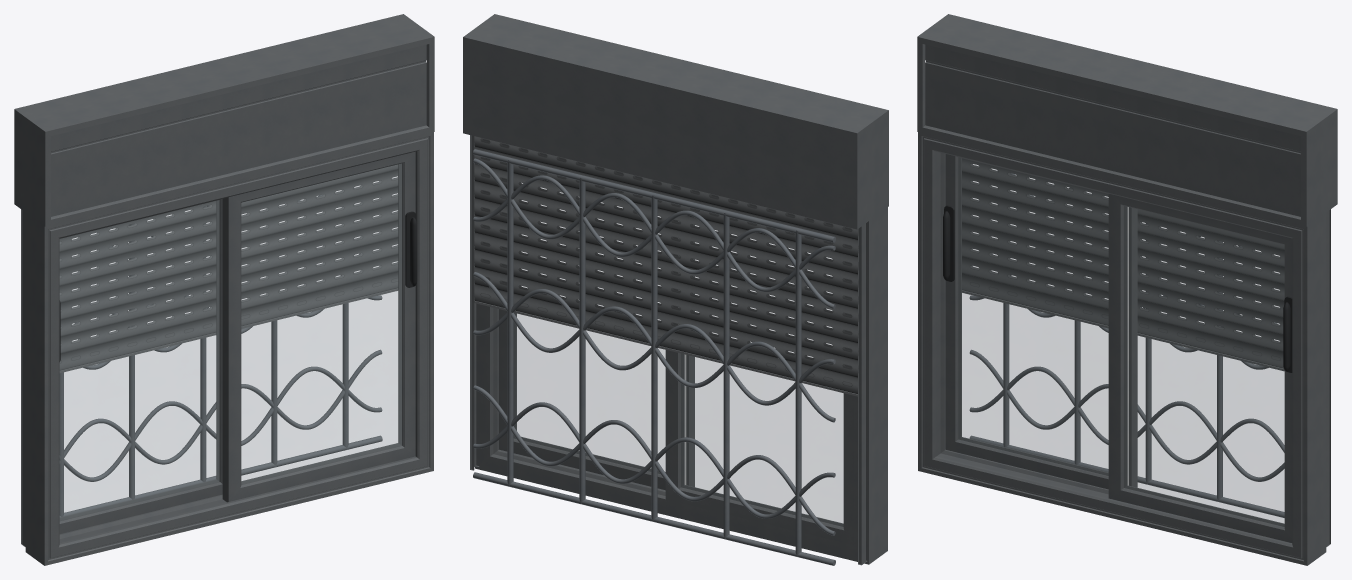
The model's file is window.glb.
3 renders of one model, left to right at view 1: azimuth 30°, elevation 25°; view 2: azimuth 150°, elevation 25°; view 3: azimuth 330°, elevation 25°, orthographic.
Visible parts, largest first — view 1: shutter_box, sash_right_glass, sash_left_glass, shutter_laths_vented, frame, sash_right, security_grille, shutter_bottom_rail, sash_left, shutter_guides, handles, shutter_end_rail; view 2: shutter_box, shutter_laths_vented, security_grille, sash_left_glass, frame, sash_right_glass, sash_left, shutter_guides, shutter_bottom_rail, sash_right, shutter_end_rail; view 3: shutter_box, sash_right_glass, sash_left_glass, frame, shutter_laths_vented, sash_right, security_grille, sash_left, shutter_bottom_rail, shutter_guides, handles, shutter_end_rail (+1 smaller).
Boxes of the visible parts, left/top/right/bottom form: shutter_box: left=14, top=14, right=434, bottom=226; sash_right_glass: left=241, top=164, right=401, bottom=483; sash_left_glass: left=60, top=200, right=219, bottom=520; shutter_laths_vented: left=59, top=164, right=398, bottom=353; frame: left=25, top=132, right=433, bottom=565; sash_right: left=222, top=151, right=415, bottom=502; security_grille: left=59, top=194, right=382, bottom=517; shutter_bottom_rail: left=59, top=271, right=398, bottom=370; sash_left: left=59, top=198, right=222, bottom=533; shutter_guides: left=21, top=209, right=25, bottom=546; handles: left=59, top=211, right=417, bottom=361; shutter_end_rail: left=59, top=288, right=398, bottom=372; shutter_box: left=463, top=14, right=888, bottom=229; shutter_laths_vented: left=474, top=136, right=858, bottom=377; security_grille: left=473, top=149, right=835, bottom=565; sash_left_glass: left=681, top=225, right=843, bottom=526; frame: left=475, top=139, right=887, bottom=564; sash_right_glass: left=514, top=183, right=665, bottom=473; sash_left: left=665, top=220, right=853, bottom=544; shutter_guides: left=470, top=135, right=867, bottom=565; shutter_bottom_rail: left=474, top=284, right=857, bottom=393; sash_right: left=499, top=178, right=694, bottom=490; shutter_end_rail: left=474, top=301, right=857, bottom=396; shutter_box: left=917, top=14, right=1337, bottom=226; sash_right_glass: left=1124, top=206, right=1284, bottom=526; sash_left_glass: left=958, top=158, right=1108, bottom=475; frame: left=918, top=132, right=1326, bottom=565; shutter_laths_vented: left=962, top=158, right=1284, bottom=351; sash_right: left=1108, top=194, right=1292, bottom=542; security_grille: left=969, top=173, right=1284, bottom=517; sash_left: left=945, top=154, right=1137, bottom=489; shutter_bottom_rail: left=962, top=273, right=1283, bottom=368; shutter_guides: left=1326, top=209, right=1330, bottom=546; handles: left=943, top=205, right=1292, bottom=372; shutter_end_rail: left=962, top=290, right=1284, bottom=371.
Bounding box in the file's own units: 1.2 × 1.28 × 0.2123.
9 materials, 9 textured.
